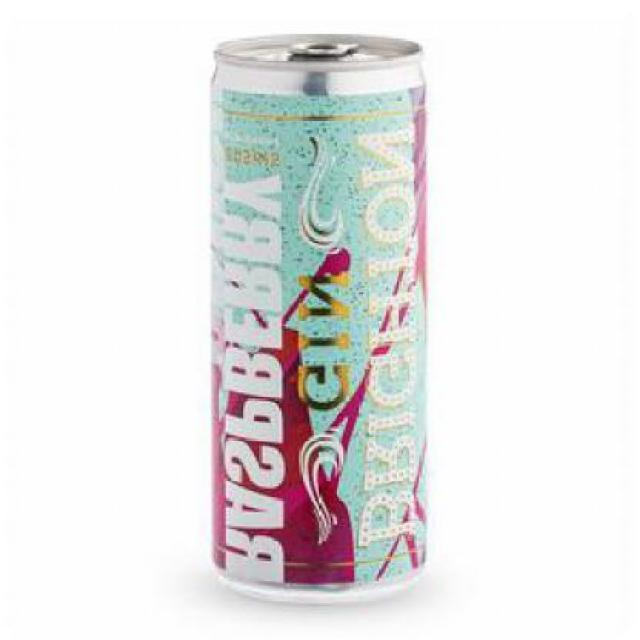can: (210, 31, 432, 603)
